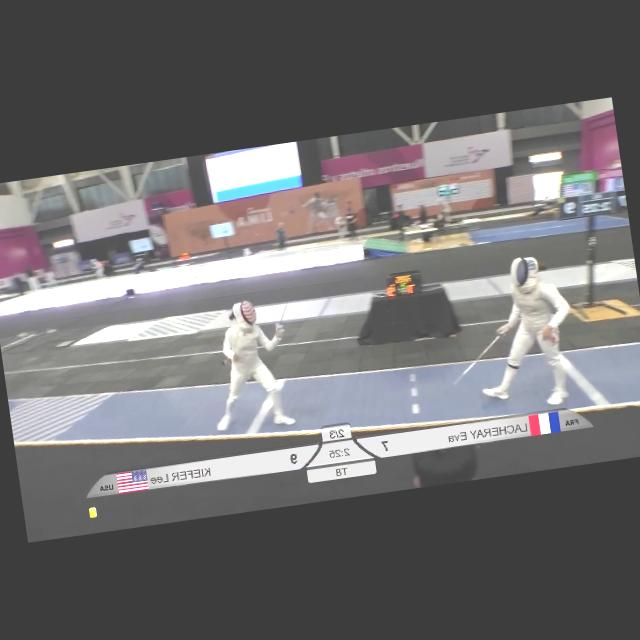blade: (444, 328, 514, 389), (268, 290, 298, 336)
